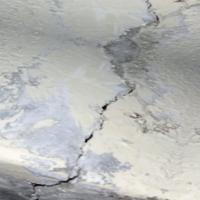crack: (24, 70, 164, 199)
